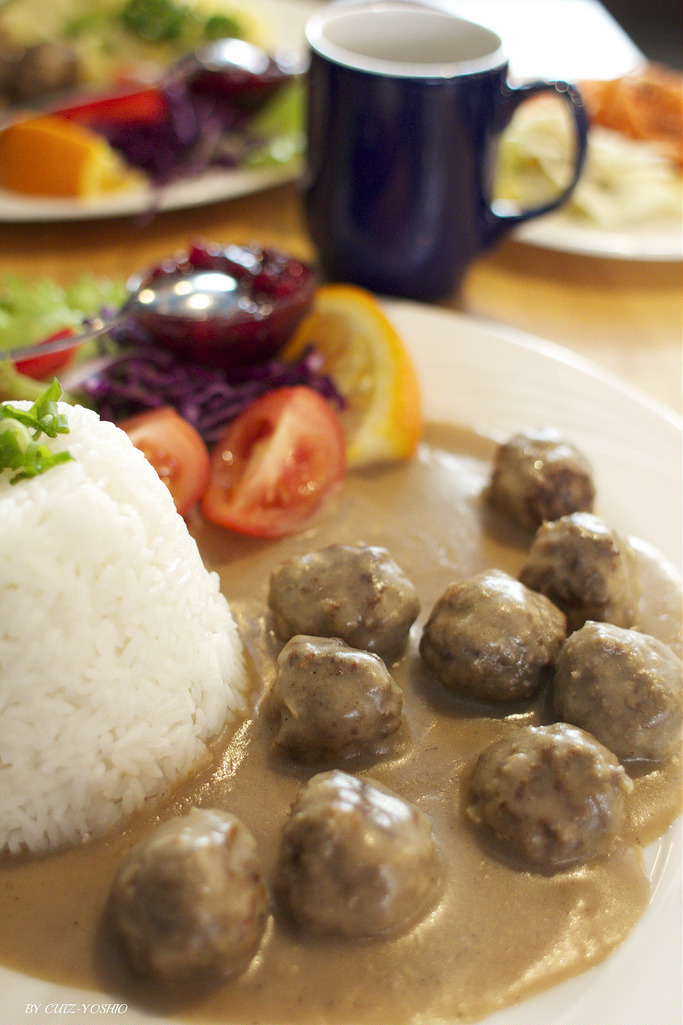meatballs: (263, 508, 682, 943), (104, 768, 454, 1017), (460, 417, 606, 553)
plain rice: (1, 384, 231, 822)
